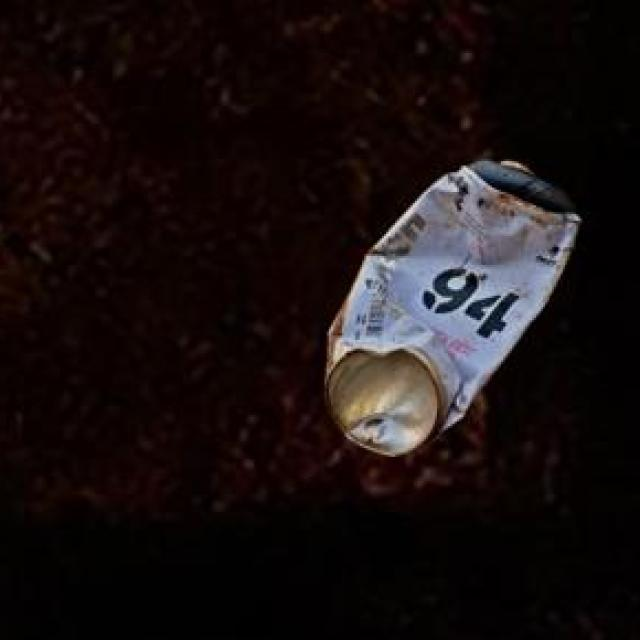logam: (328, 164, 584, 458)
